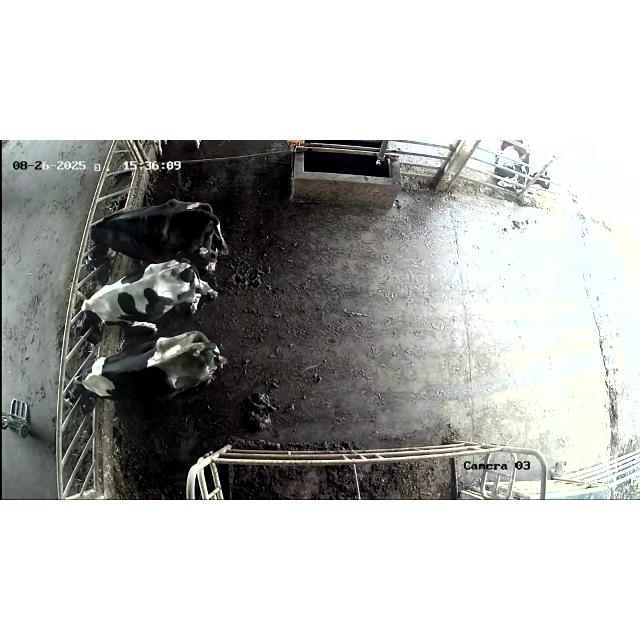eat: (35, 356, 125, 426), (62, 214, 140, 284), (50, 288, 138, 349)
